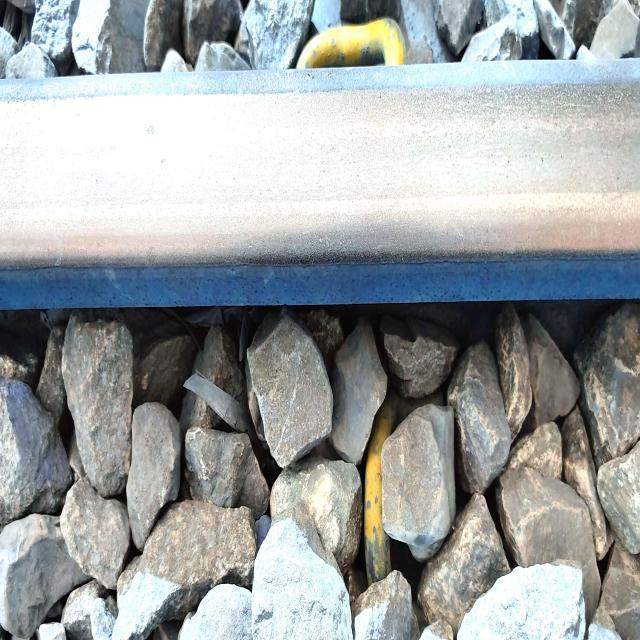Good Fasteners: (364, 400, 399, 584), (297, 18, 406, 69)
